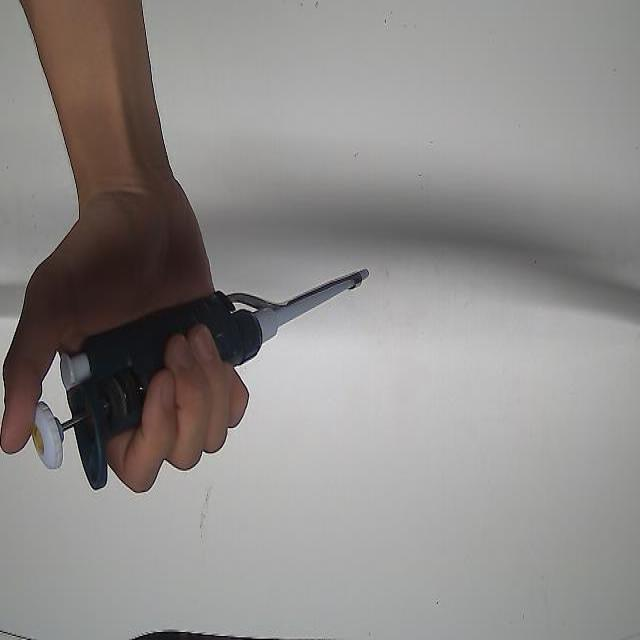Single Channel Pipettor: (28, 267, 375, 489)
